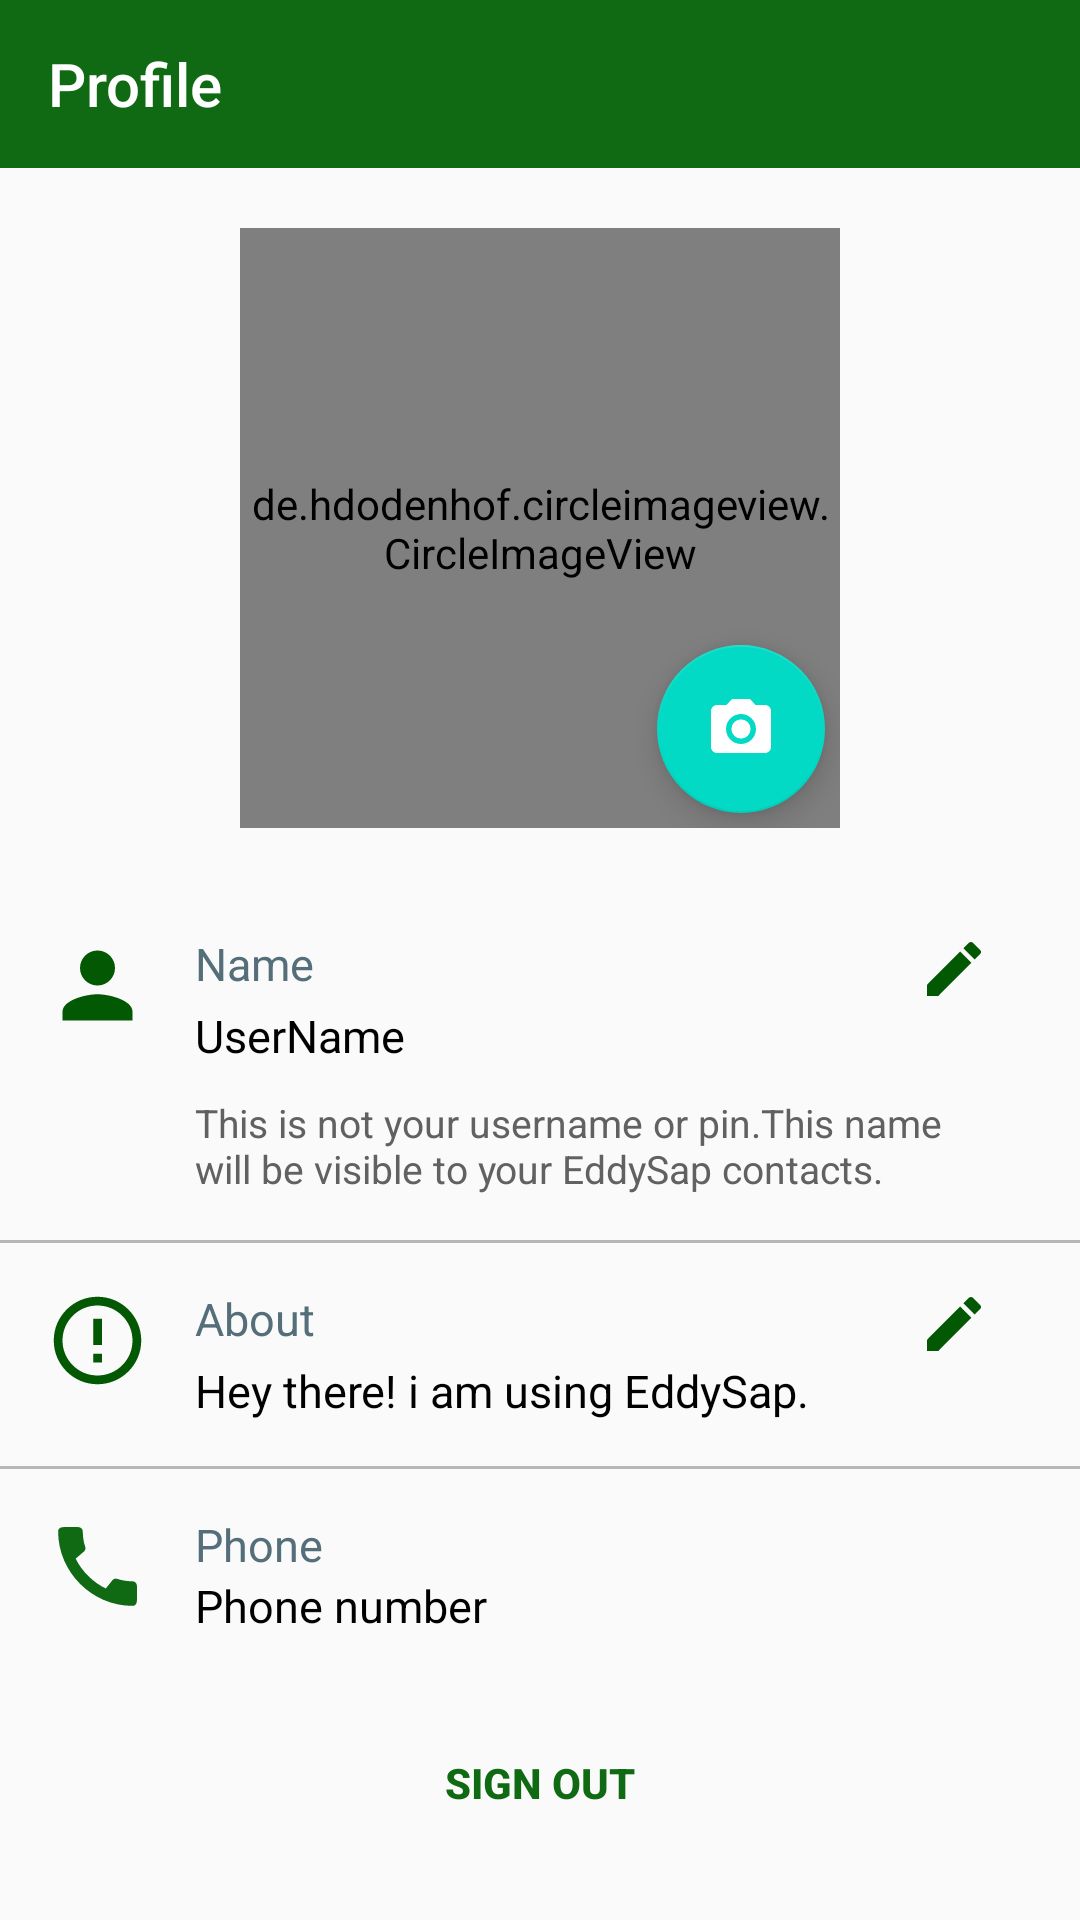

Screen size 1080 x 1920. Icon name, then its box in pixels as (x1, y1, x2, y2):
call: (58, 1527, 137, 1606)
camera: (657, 645, 825, 813)
edit: (927, 942, 981, 996), (927, 1297, 981, 1351)
person: (62, 950, 133, 1021)
